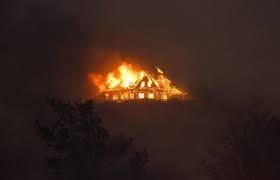fire: (91, 58, 189, 101)
